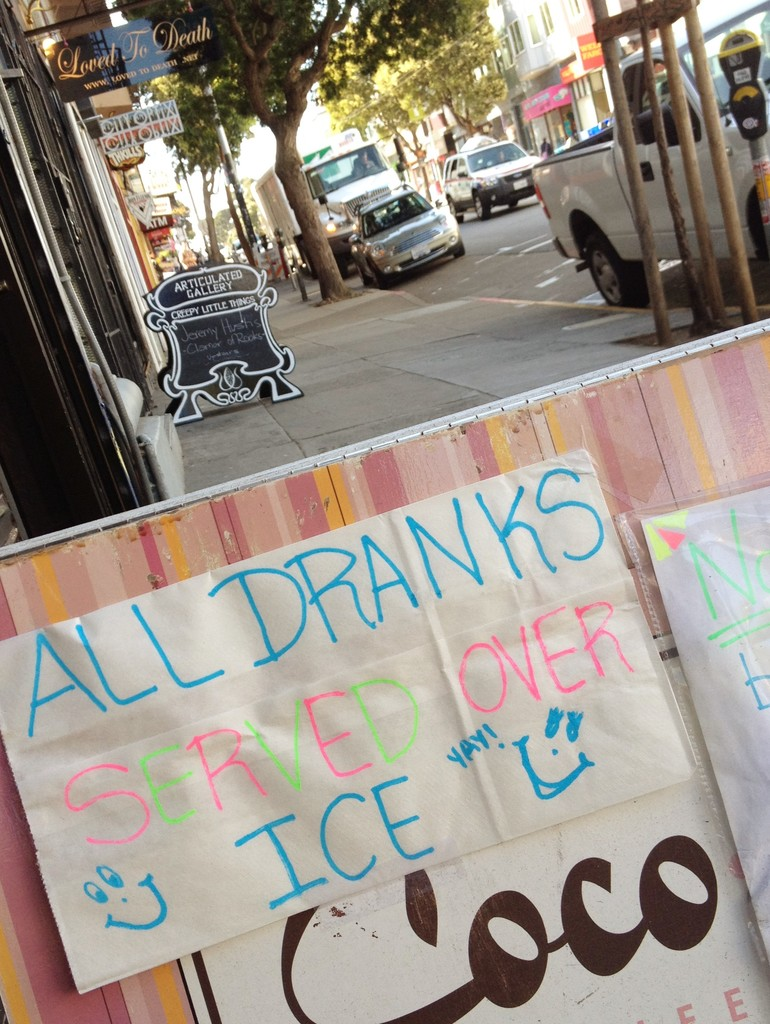mobil: (346, 182, 465, 274)
